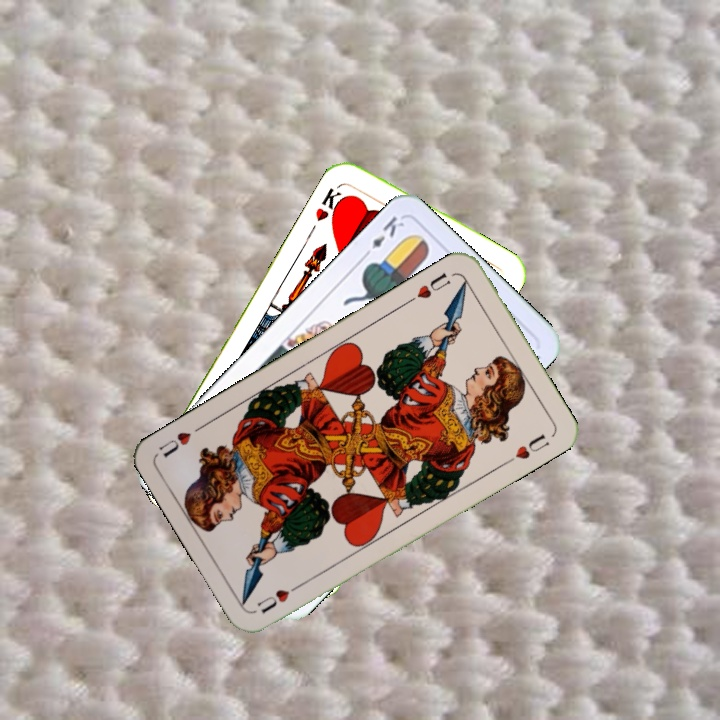EK: (358, 212, 407, 261)
HK: (311, 179, 350, 226)
HU: (253, 578, 305, 616), (404, 268, 454, 306)
